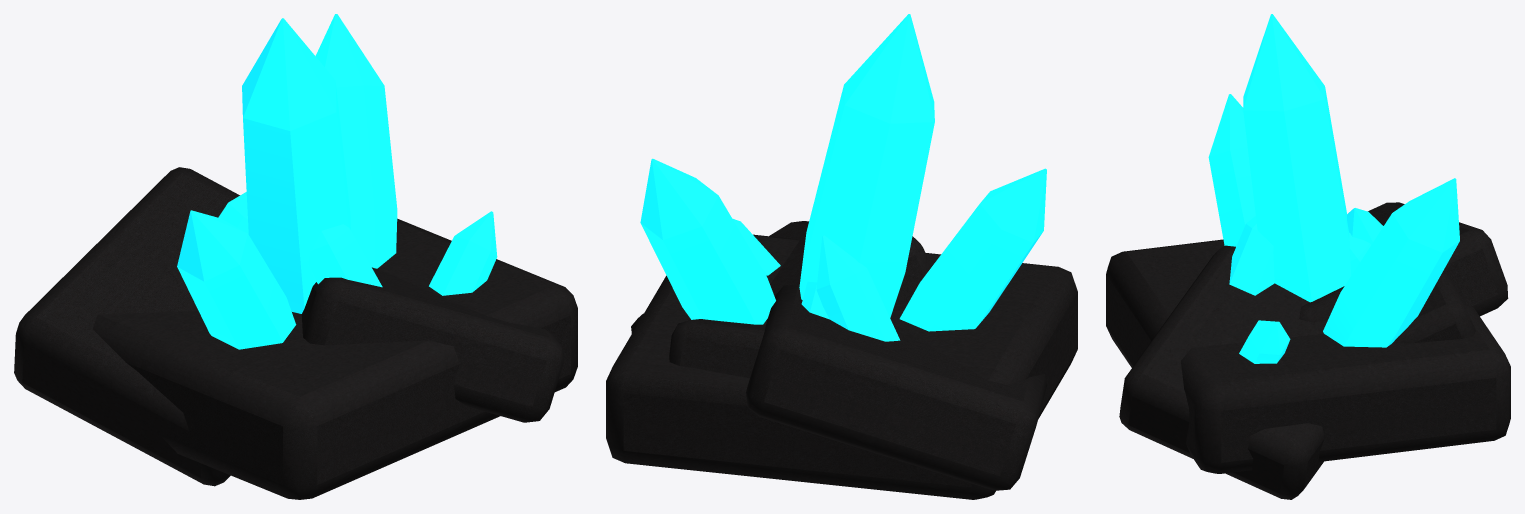
The model's file is element115_crystal.glb.
The picture shows the model from 3 angles, left to right: view 1: azimuth 30°, elevation 25°; view 2: azimuth 150°, elevation 25°; view 3: azimuth 270°, elevation 25°; orthographic projection. The views are drawn at different scales.
Parts seen in each view (by area): view 1: Element115Crystal; view 2: Element115Crystal; view 3: Element115Crystal.
Boxes of the visible parts, box(x1,y1,x2,y2) form: Element115Crystal: box(14, 14, 577, 499); Element115Crystal: box(606, 14, 1077, 499); Element115Crystal: box(1106, 14, 1510, 499).
Bounding box in the file's own units: 1.32 × 1.18 × 1.13.
Materials: 2 (1 with a texture image).
